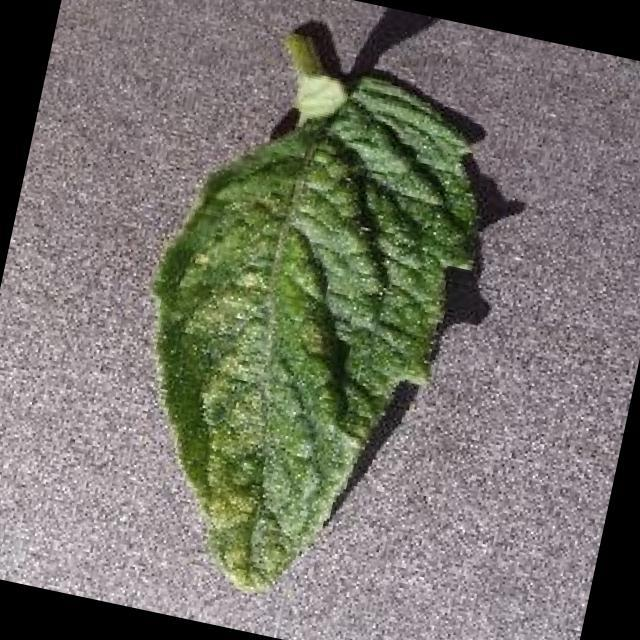Tomato spider mites leaf: (91, 35, 516, 628)
